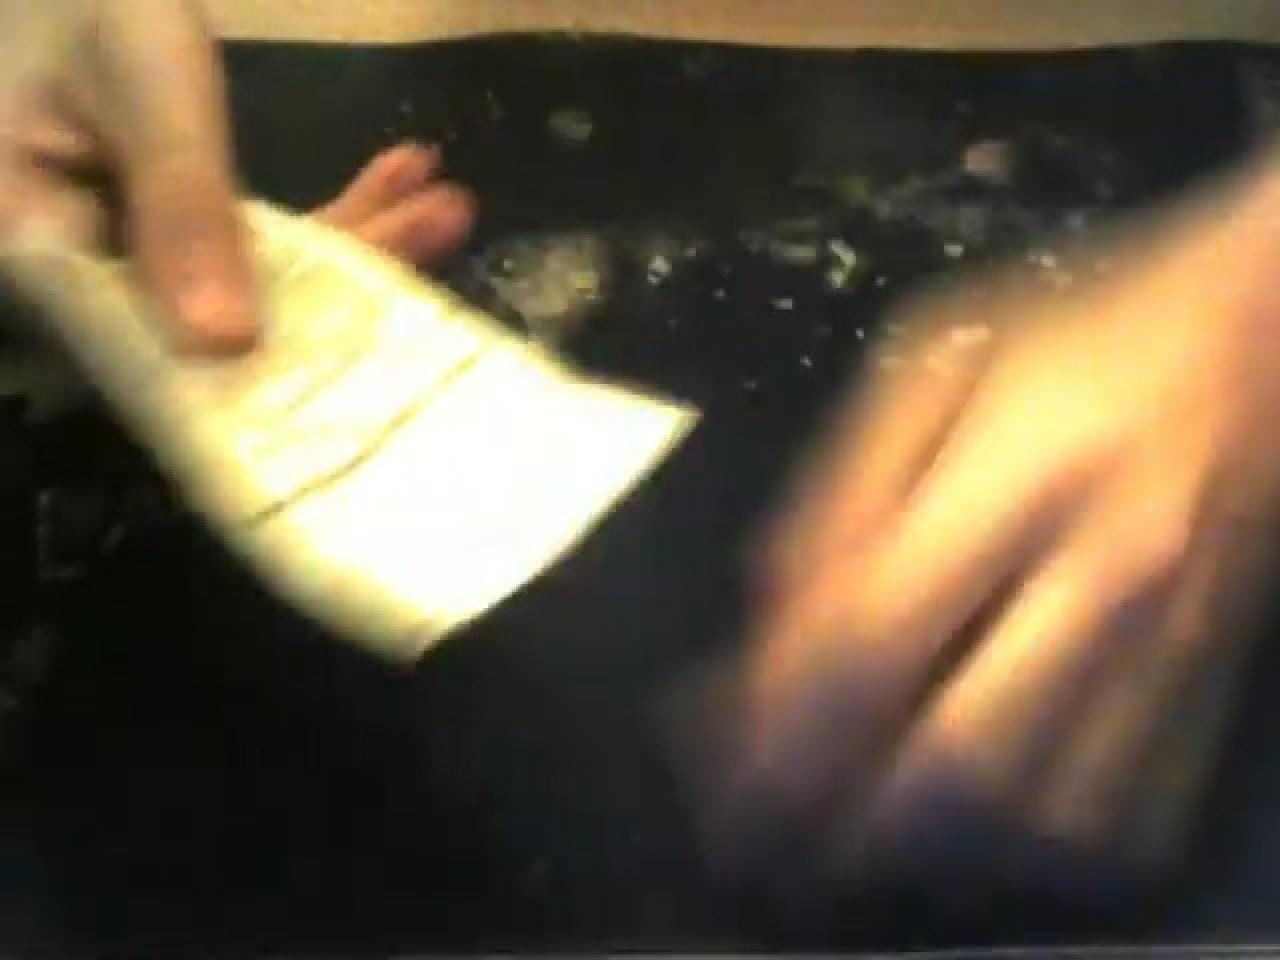10leva: (4, 18, 1274, 947)
